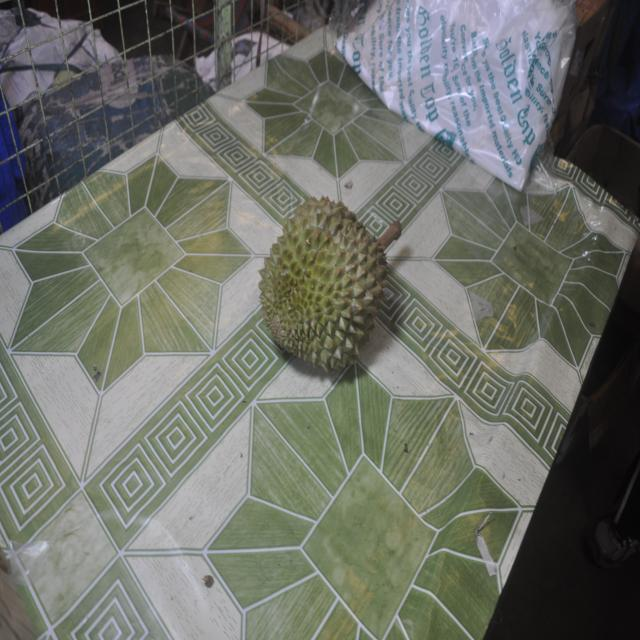mature: (259, 197, 388, 373)
